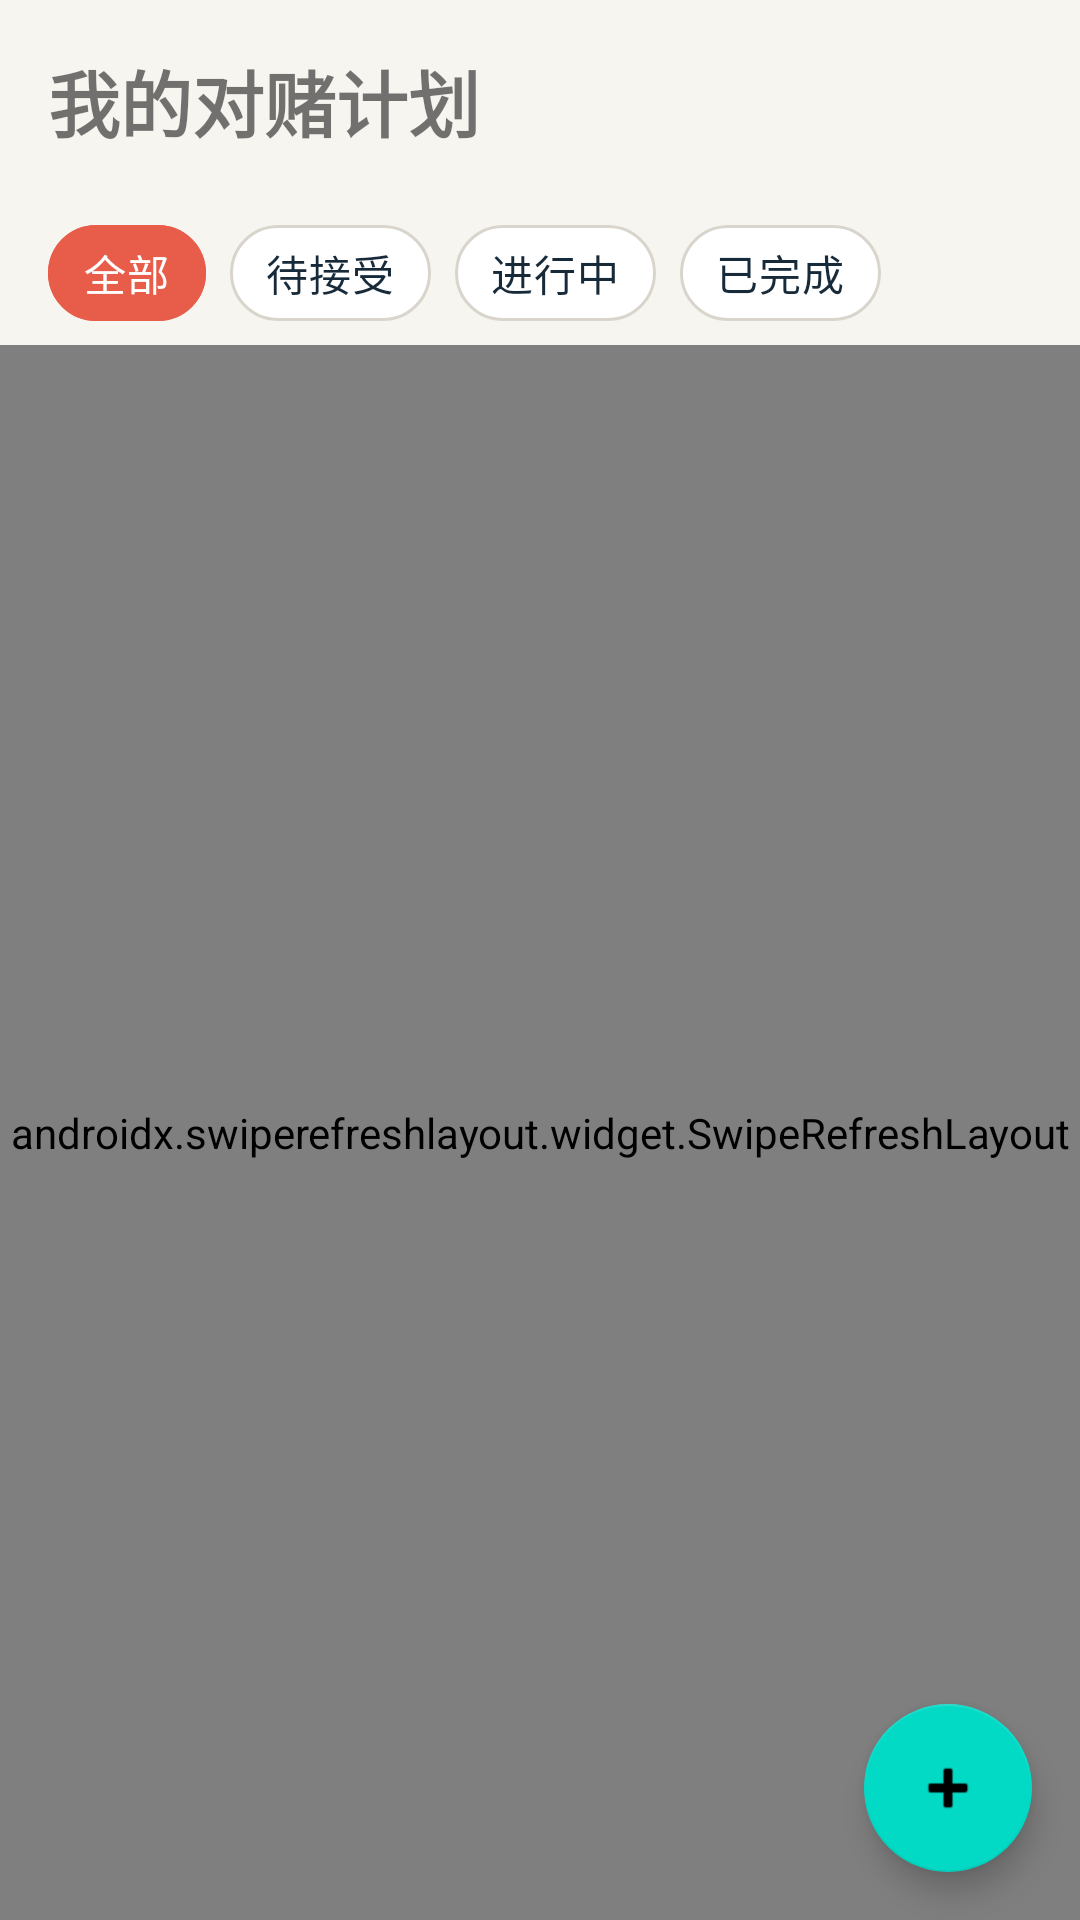

Named icons in this screenshot (1080*1920) and their centers, (x=x, y=y):
创建计划: (x=948, y=1788)
